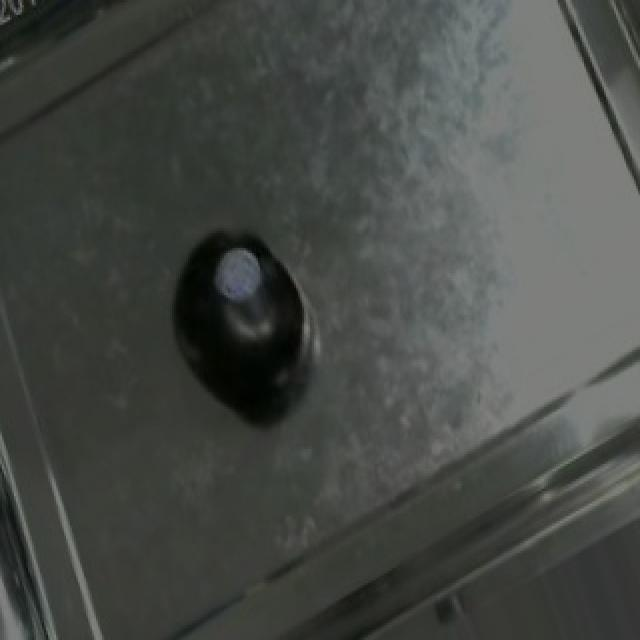Fruit: (154, 223, 330, 437)
